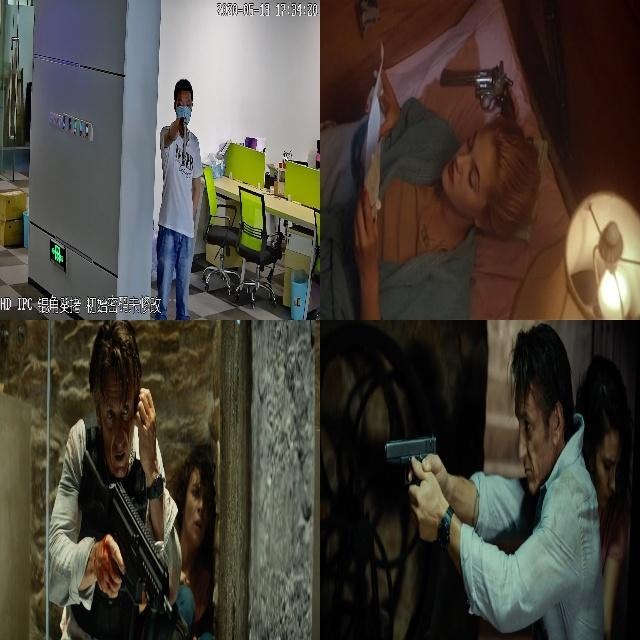gun-knife-thesis - v11 Yolov5 augmented: (78, 444, 174, 623), (431, 51, 520, 144), (381, 428, 437, 540), (177, 114, 189, 161)
